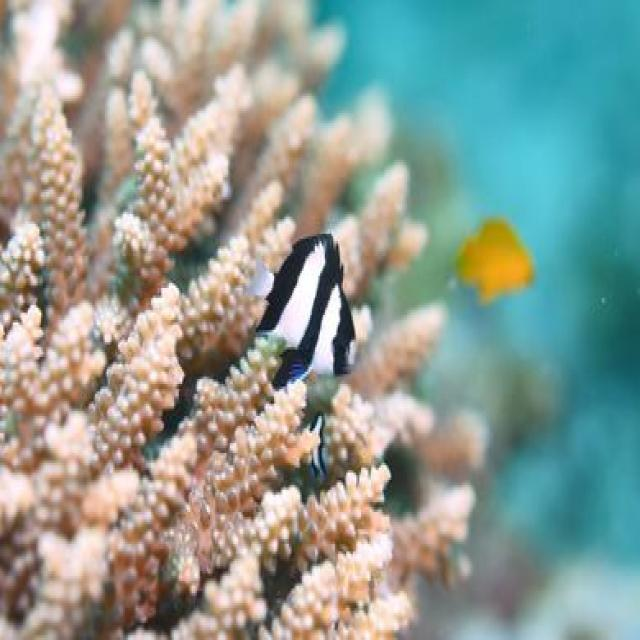Three_striped DasmselFish: (254, 232, 367, 388)
